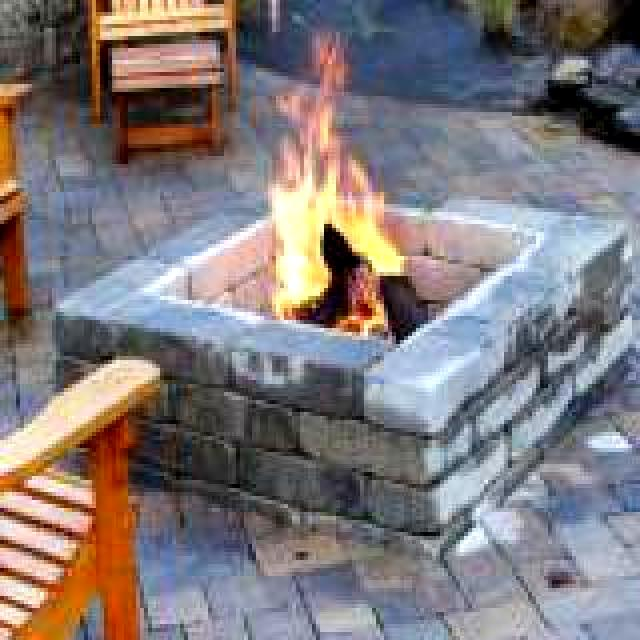fire: (280, 92, 396, 320)
